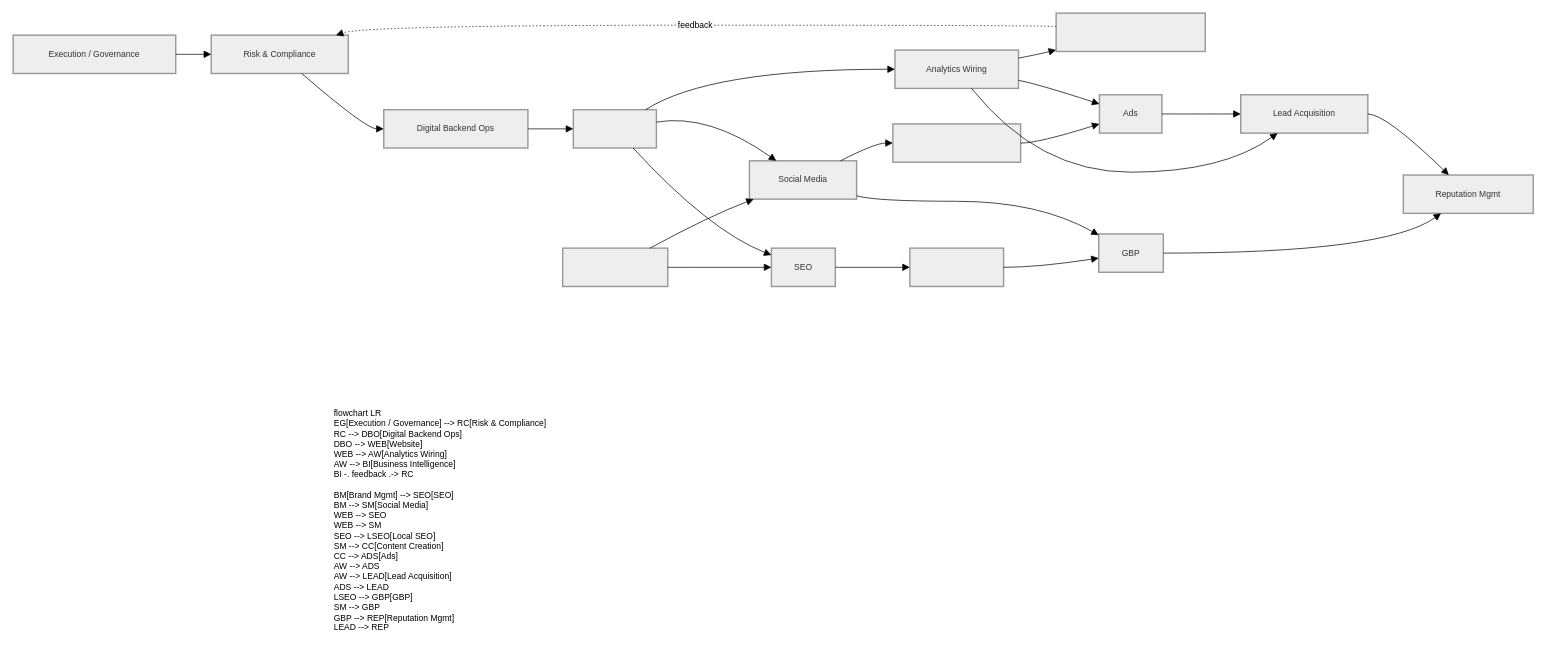
Image size: 1546x657. Some labels were removed from this diagram. The centre of each missing label's shape, as x and y in pixels:
Brand Mgmt: the point at 615,267
Business Intelligence: the point at 1130,32
Content Creation: the point at 956,143
Local SEO: the point at 956,267
Website: the point at 614,128
